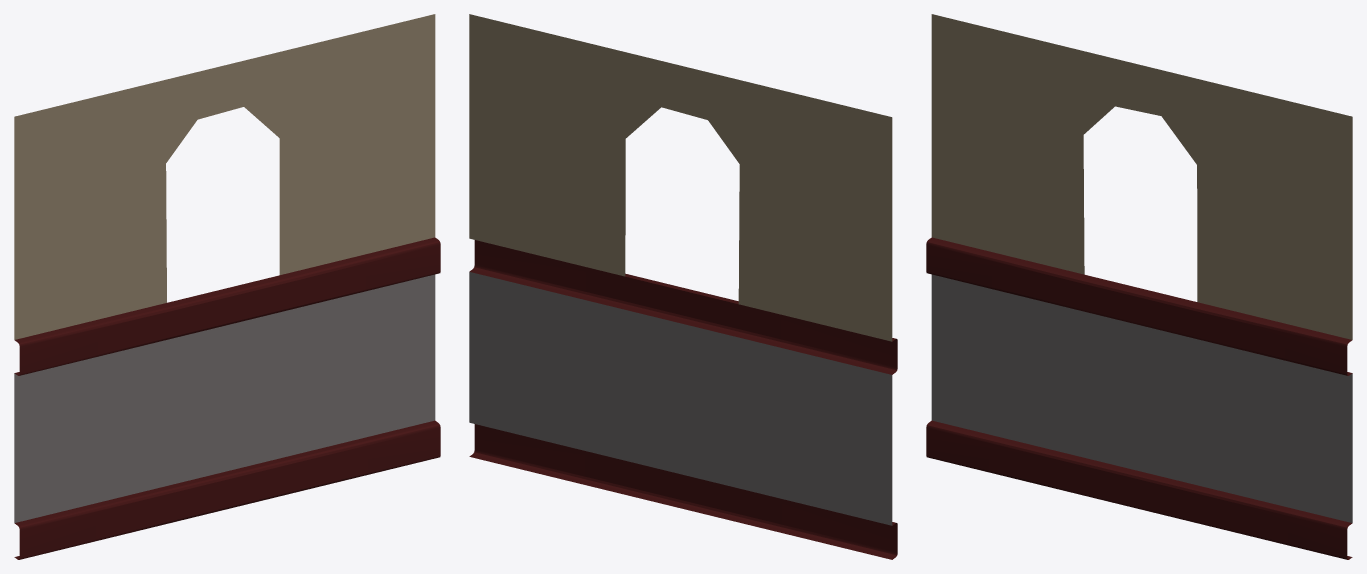
The model's file is WindowWall.fbx.
3 views of the same model, side by side, from view 1: azimuth 30°, elevation 25°; view 2: azimuth 150°, elevation 25°; view 3: azimuth 330°, elevation 25° (orthographic).
Visible parts, largest first — view 1: Wall; view 2: Wall; view 3: Wall.
Part boxes in pixels (x1,y1,x2,y2): Wall: (14,14,440,559); Wall: (469,14,897,559); Wall: (926,14,1352,559).
Size of the model in its own units: 65.5 by 65.5 by 1.48.
